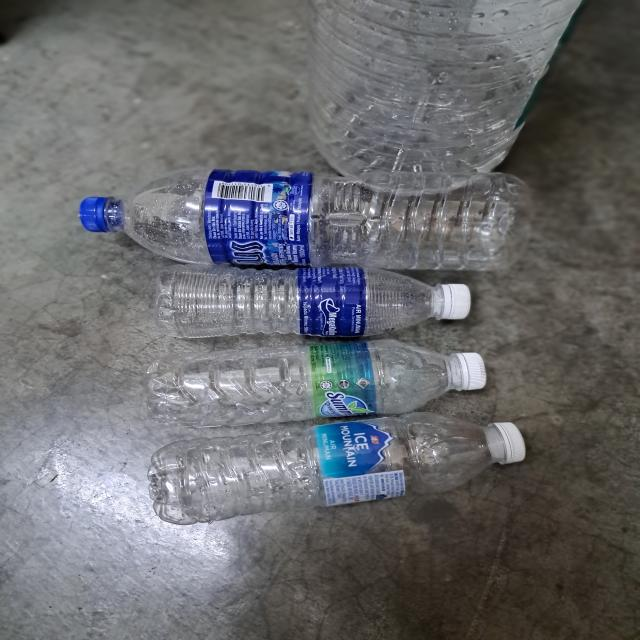plastic bottle: (307, 0, 588, 196), (108, 168, 533, 272), (148, 411, 509, 526), (146, 338, 460, 426), (154, 264, 442, 338)
plastic bottle cap: (486, 423, 527, 465), (452, 352, 487, 391), (79, 196, 112, 232), (442, 283, 472, 320)
